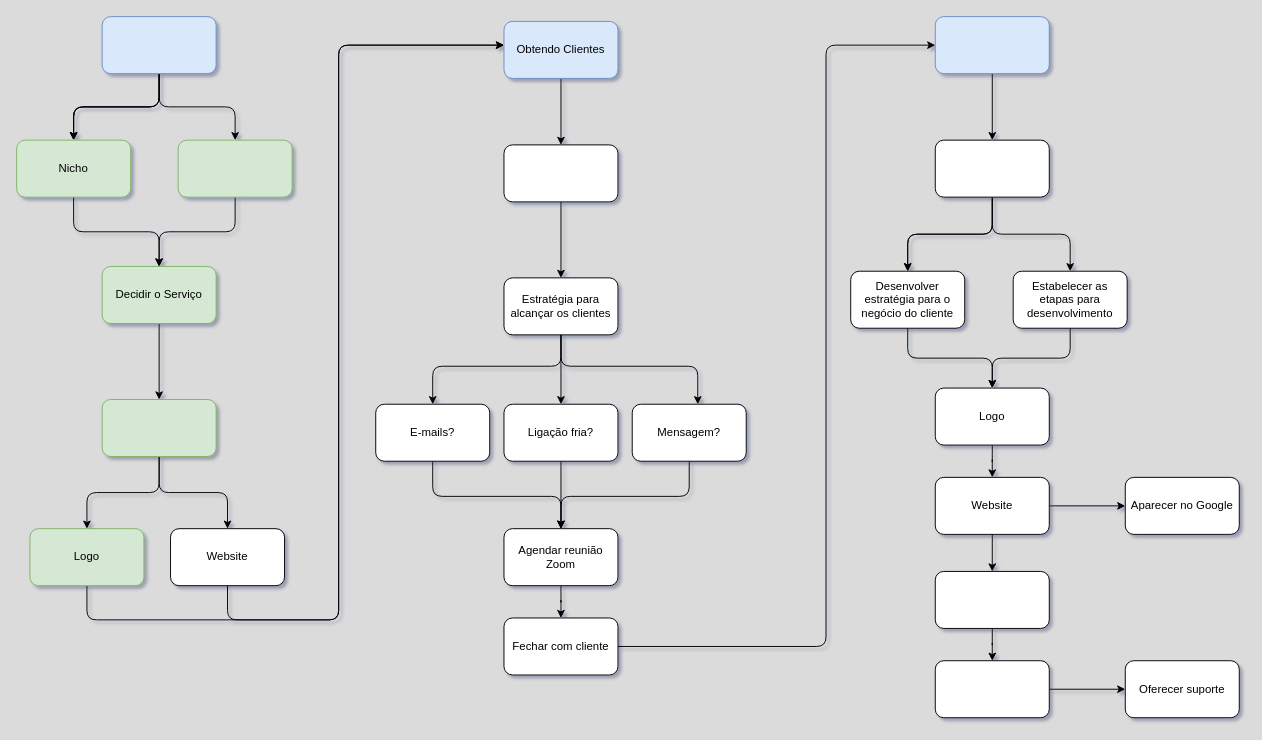
Some shapes in this 1262 by 740 pixel diagram are drawn without their labels. Here are the shapes that lost their labels. From the top down, the box of each, then its label:
(101, 16, 216, 74): Fundações
(934, 16, 1049, 74): Entregando Resultados
(177, 139, 292, 197): Estabelecer ICP (Perfil de cliente ideal)
(503, 144, 618, 202): Geração de Leads
(934, 139, 1049, 197): Acompanhando Cliente
(101, 399, 216, 456): Nome da empresa/sistema
(934, 570, 1049, 628): Sistema Web ou Windows?
(934, 660, 1049, 718): Resultado
